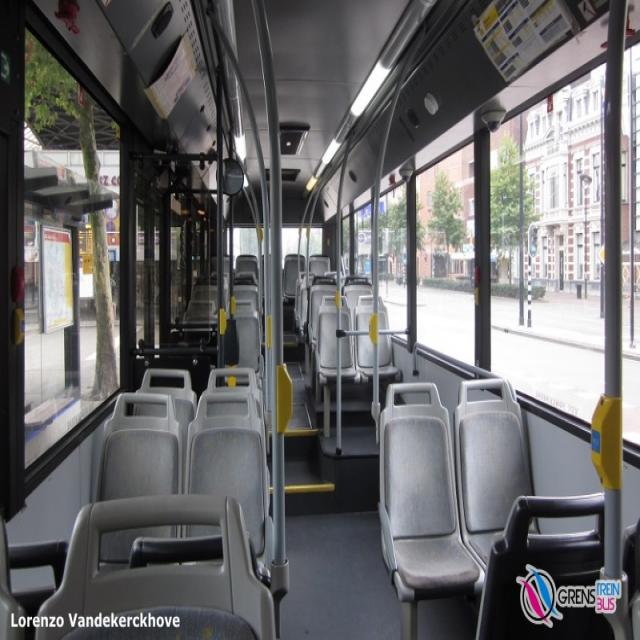empty-seat-frontal: (376, 382, 487, 594)
